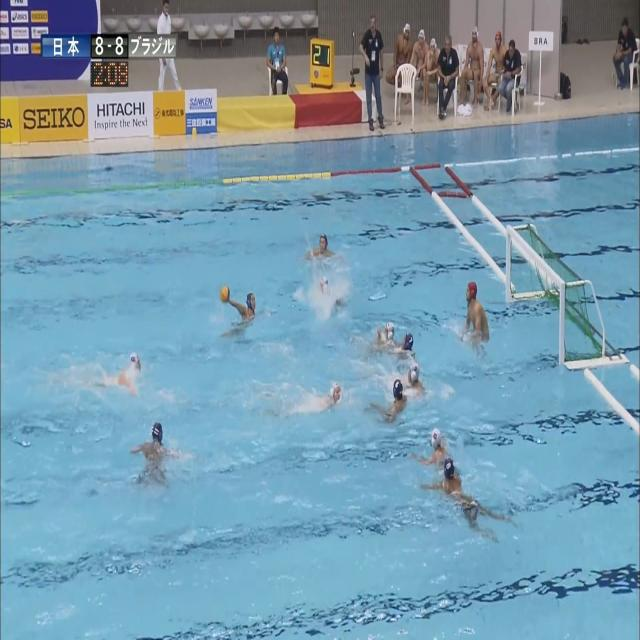ball: (220, 286, 230, 302)
